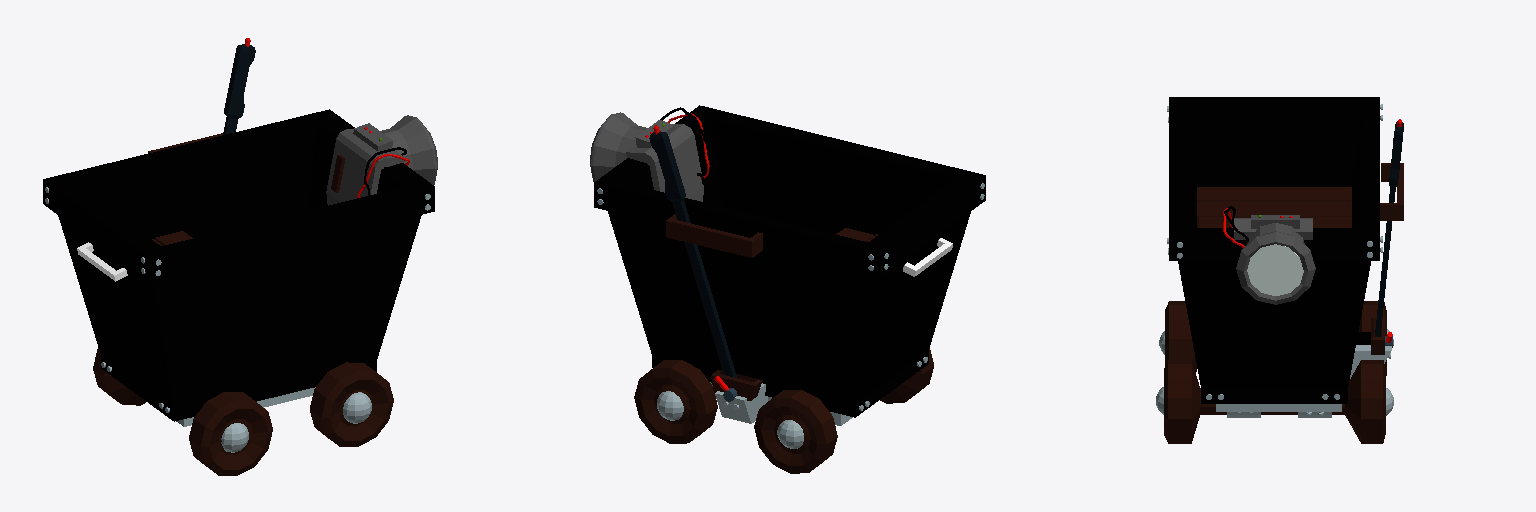
The picture shows the model from 3 angles: view 1: azimuth 30°, elevation 25°; view 2: azimuth 150°, elevation 25°; view 3: azimuth 270°, elevation 25°; orthographic projection.
Visible parts, largest first — view 1: group[number redacted], group[number redacted], group[number redacted], group[number redacted], group[number redacted], group[number redacted], group[number redacted], group[number redacted]; view 2: group[number redacted], group[number redacted], group[number redacted], group[number redacted], group[number redacted], group[number redacted], group[number redacted], group[number redacted], group[number redacted], group[number redacted]; view 3: group[number redacted], group[number redacted], group[number redacted], group[number redacted], group[number redacted], group[number redacted], group[number redacted], group[number redacted], group[number redacted], group[number redacted], group[number redacted], group[number redacted].
Boxes of the visible parts, x1=… form: group[number redacted]: x1=43, y1=109, x2=434, y2=421; group[number redacted]: x1=93, y1=347, x2=272, y2=475; group[number redacted]: x1=310, y1=362, x2=393, y2=446; group[number redacted]: x1=326, y1=129, x2=403, y2=205; group[number redacted]: x1=381, y1=115, x2=437, y2=184; group[number redacted]: x1=223, y1=44, x2=255, y2=134; group[number redacted]: x1=353, y1=123, x2=392, y2=150; group[number redacted]: x1=77, y1=242, x2=127, y2=281; group[number redacted]: x1=594, y1=105, x2=985, y2=417; group[number redacted]: x1=754, y1=348, x2=933, y2=473; group[number redacted]: x1=634, y1=360, x2=717, y2=443; group[number redacted]: x1=649, y1=131, x2=736, y2=377; group[number redacted]: x1=626, y1=124, x2=703, y2=201; group[number redacted]: x1=590, y1=112, x2=646, y2=181; group[number redacted]: x1=666, y1=214, x2=762, y2=257; group[number redacted]: x1=715, y1=383, x2=767, y2=423; group[number redacted]: x1=711, y1=370, x2=761, y2=400; group[number redacted]: x1=903, y1=238, x2=952, y2=276; group[number redacted]: x1=1169, y1=97, x2=1379, y2=403; group[number redacted]: x1=1156, y1=360, x2=1393, y2=443; group[number redacted]: x1=1236, y1=223, x2=1315, y2=304; group[number redacted]: x1=1197, y1=187, x2=1351, y2=201; group[number redacted]: x1=1247, y1=244, x2=1303, y2=295; group[number redacted]: x1=1159, y1=301, x2=1393, y2=375; group[number redacted]: x1=1197, y1=202, x2=1351, y2=217; group[number redacted]: x1=1375, y1=122, x2=1403, y2=336; group[number redacted]: x1=1216, y1=404, x2=1341, y2=411; group[number redacted]: x1=1380, y1=163, x2=1403, y2=220; group[number redacted]: x1=1197, y1=217, x2=1351, y2=227; group[number redacted]: x1=1234, y1=218, x2=1312, y2=239.
Bounding box in the file's own units: 4.15 × 3.9 × 2.72.